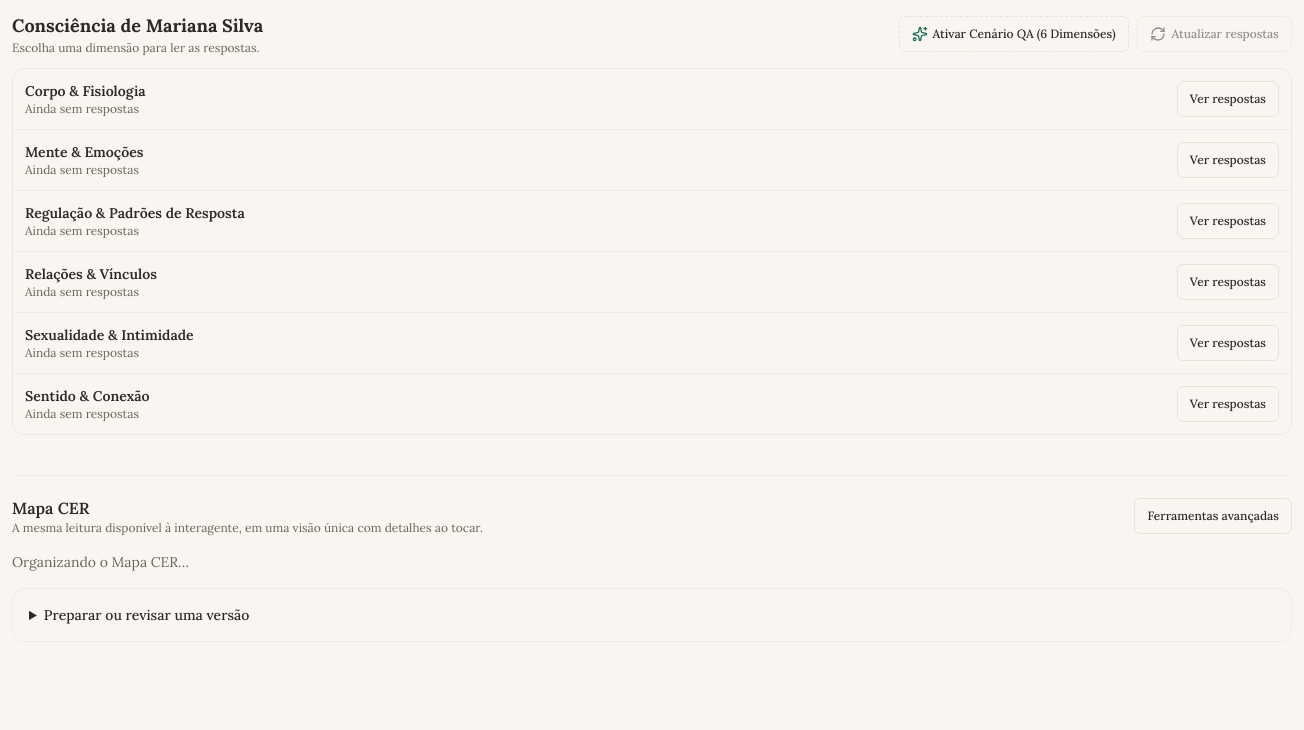
Test case: Consciência QA Fixture & Cenário de Demonstração › permite alternar o cenário QA pela UI da visão profissional preservando estado original
This screenshot has width=1304, height=730.
Expected: the text "Ativar Cenário QA (6 Dimensões)" is shown, [932,26,1116,42]
# Clica para ativar o cenário QA completo
Click the button with test id "toggle-qa-scenario-btn" at (1014, 34), box [900,16,1128,52]
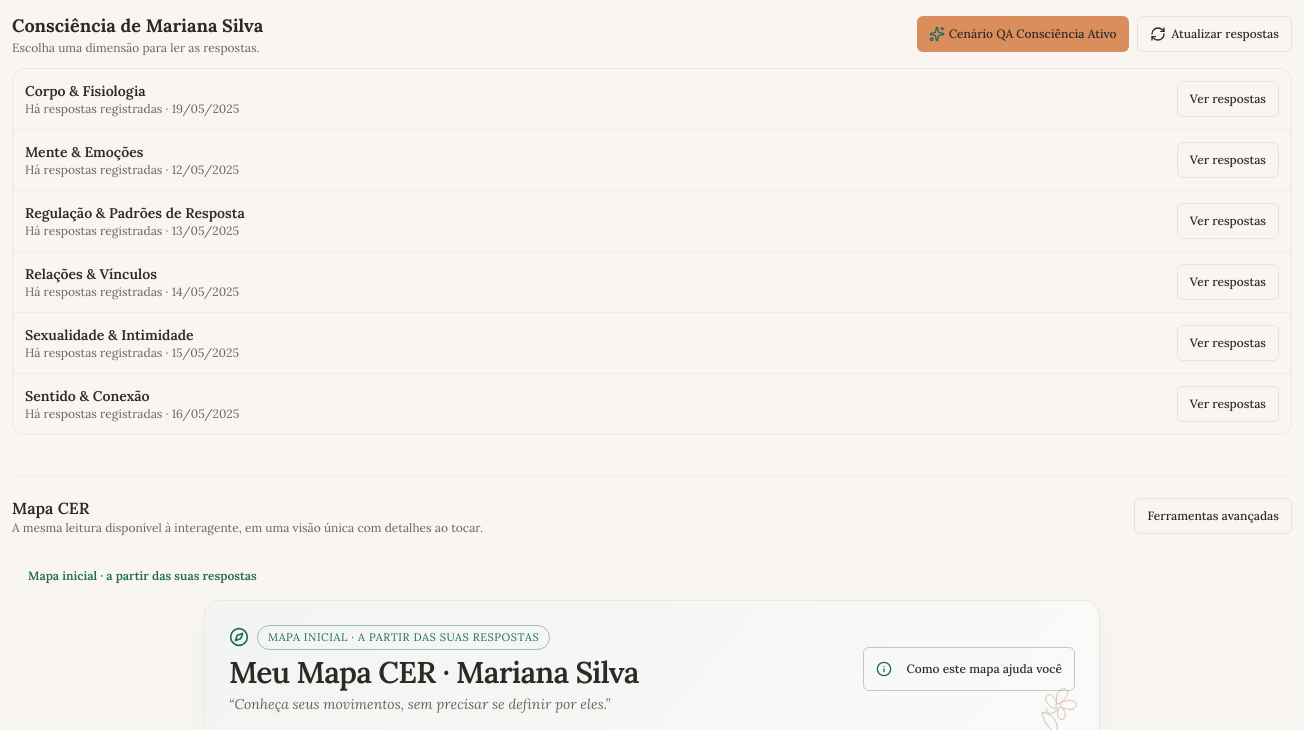
Expected: the text "Cenário QA Consciência Ativo" is shown, [949,26,1116,42]
# Clica novamente para desativar e voltar ao estado default
Click the button with test id "toggle-qa-scenario-btn" at (1023, 34), box [917,16,1128,52]
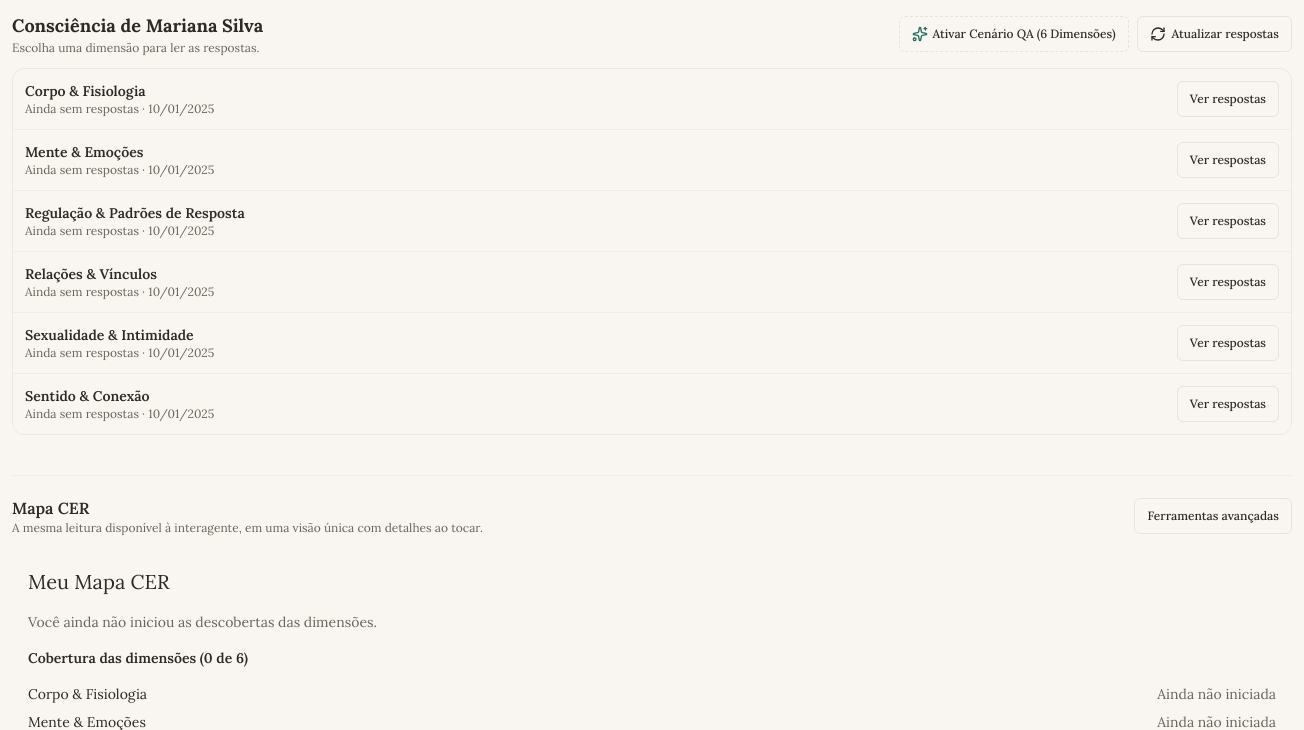
Expected: the text "Ativar Cenário QA (6 Dimensões)" is shown, [932,26,1116,42]
